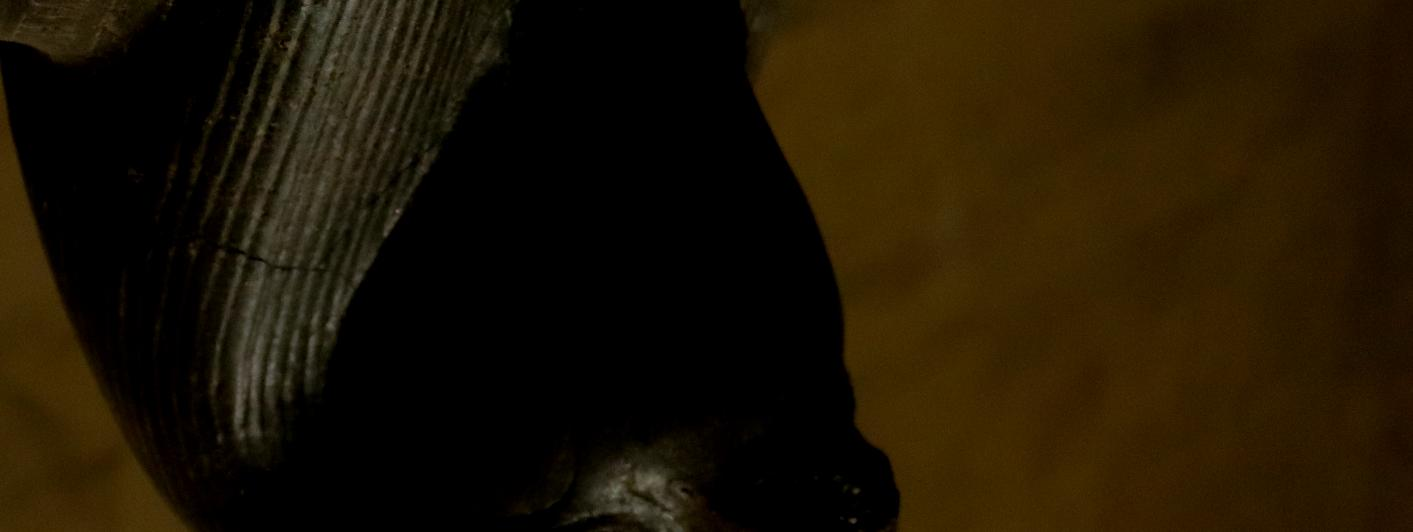Ra_Horakhty: (0, 0, 996, 532)
